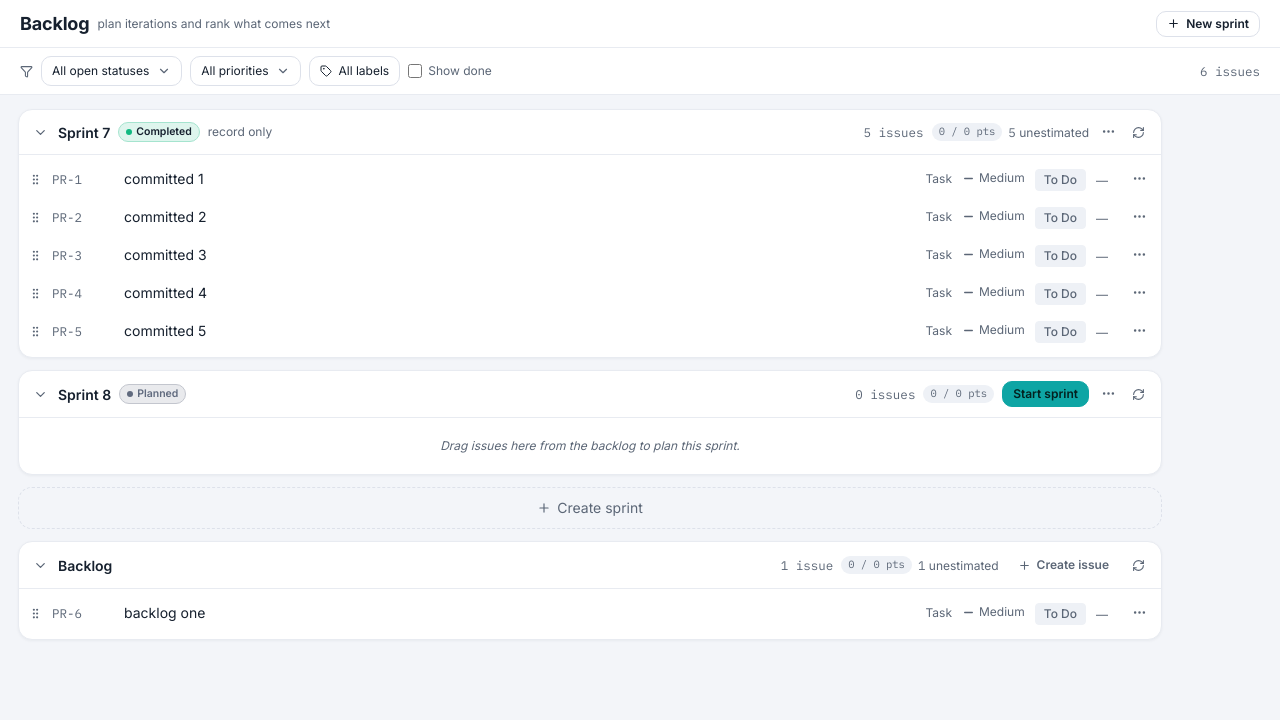
Scenario: BacklogPage — a COMPLETED sprint is frozen (0.13.0 review, security-officer L1) › offers no bulk move out of it and no "Move to →" on its rows
Check: the text "Sprint 7" is shown, box left=58, top=122, right=110, bottom=142
Click the button named "Actions for Sprint 7" at (1108, 132), box left=1097, top=120, right=1120, bottom=143
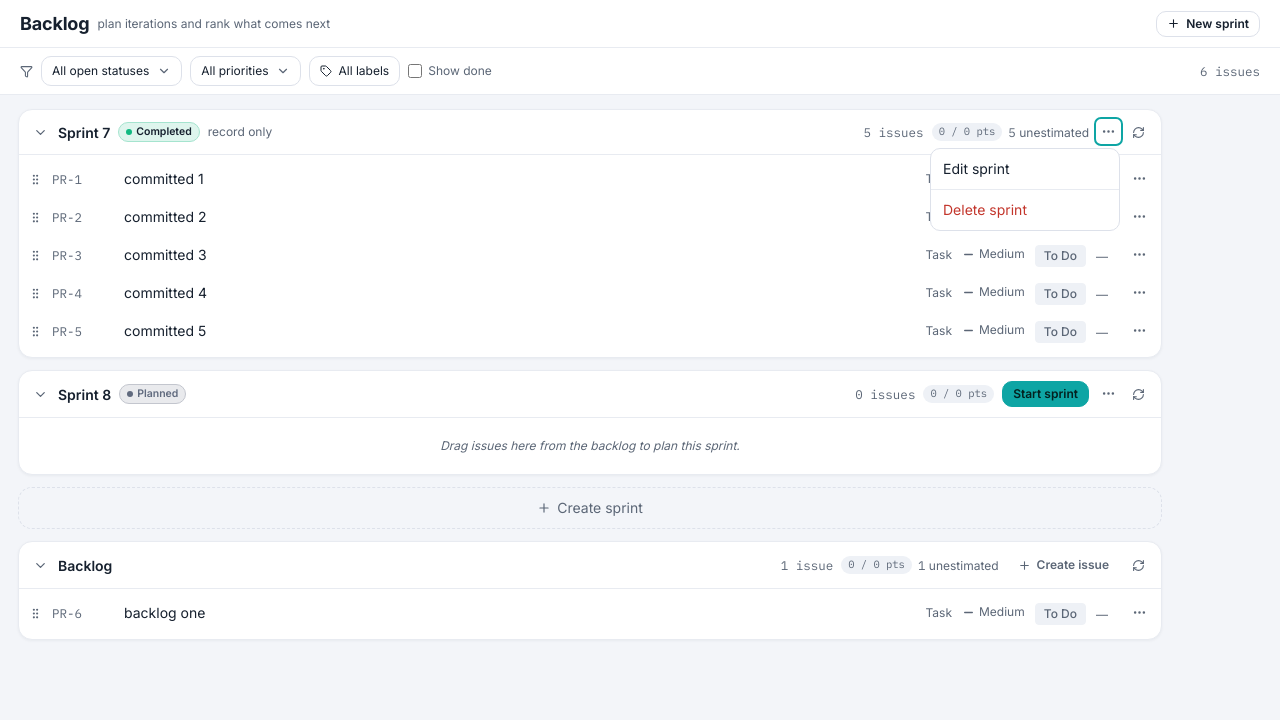
Check: the menu item "Edit sprint" is shown, box left=931, top=153, right=1119, bottom=185
Press Escape
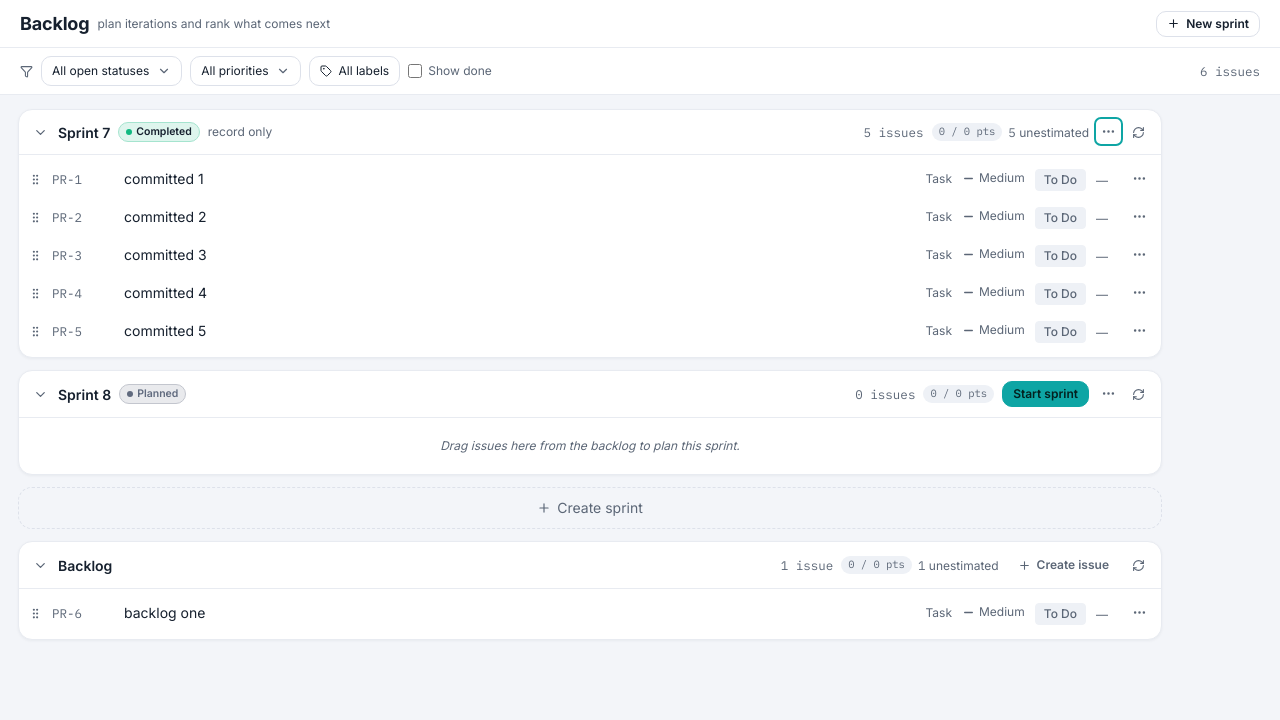
Click the button named "Move PR-1" at (1140, 178), box left=1128, top=167, right=1151, bottom=190
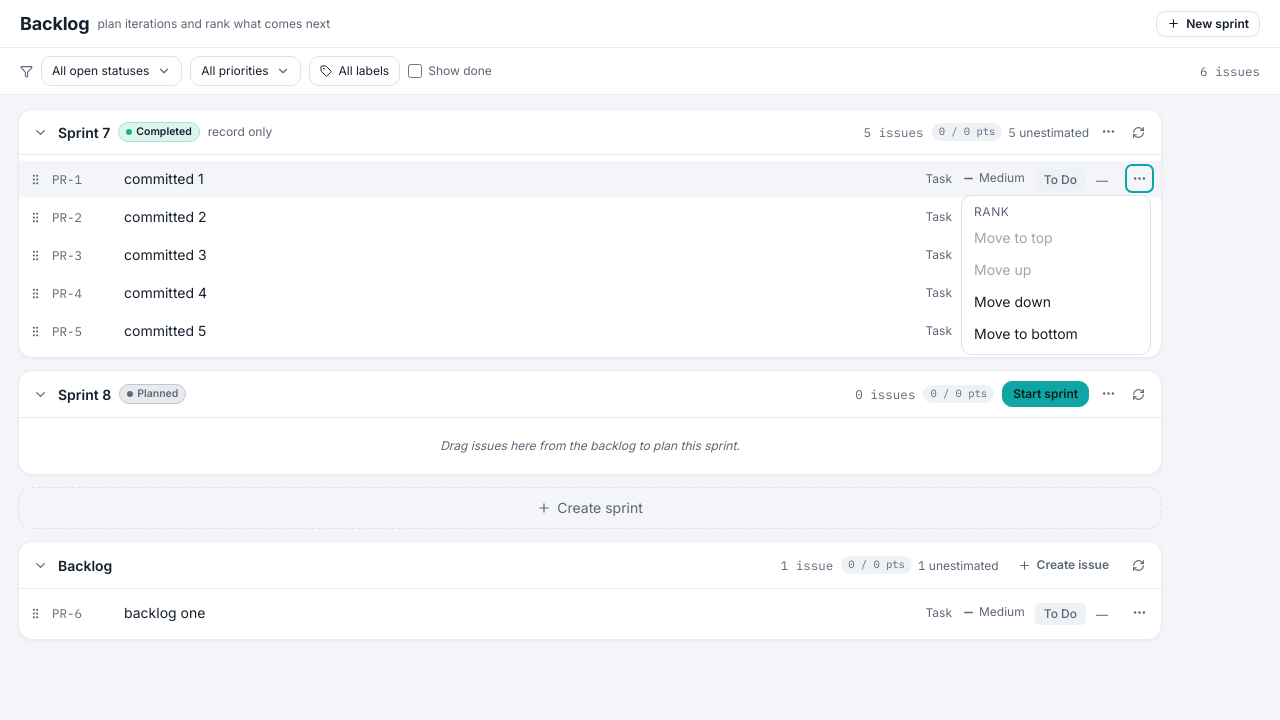
Check: the menu item "Move to top" is shown, box left=962, top=222, right=1150, bottom=254
